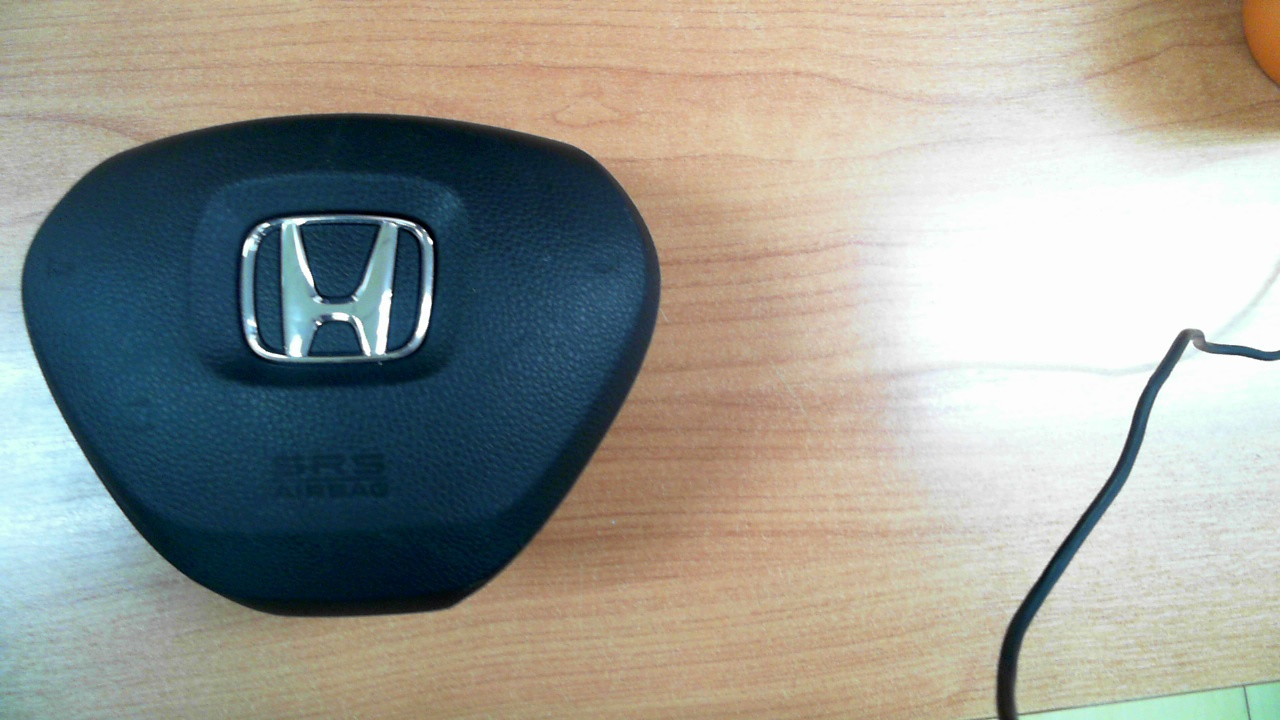Airbag: (20, 113, 662, 619)
Honda: (240, 213, 435, 366)
